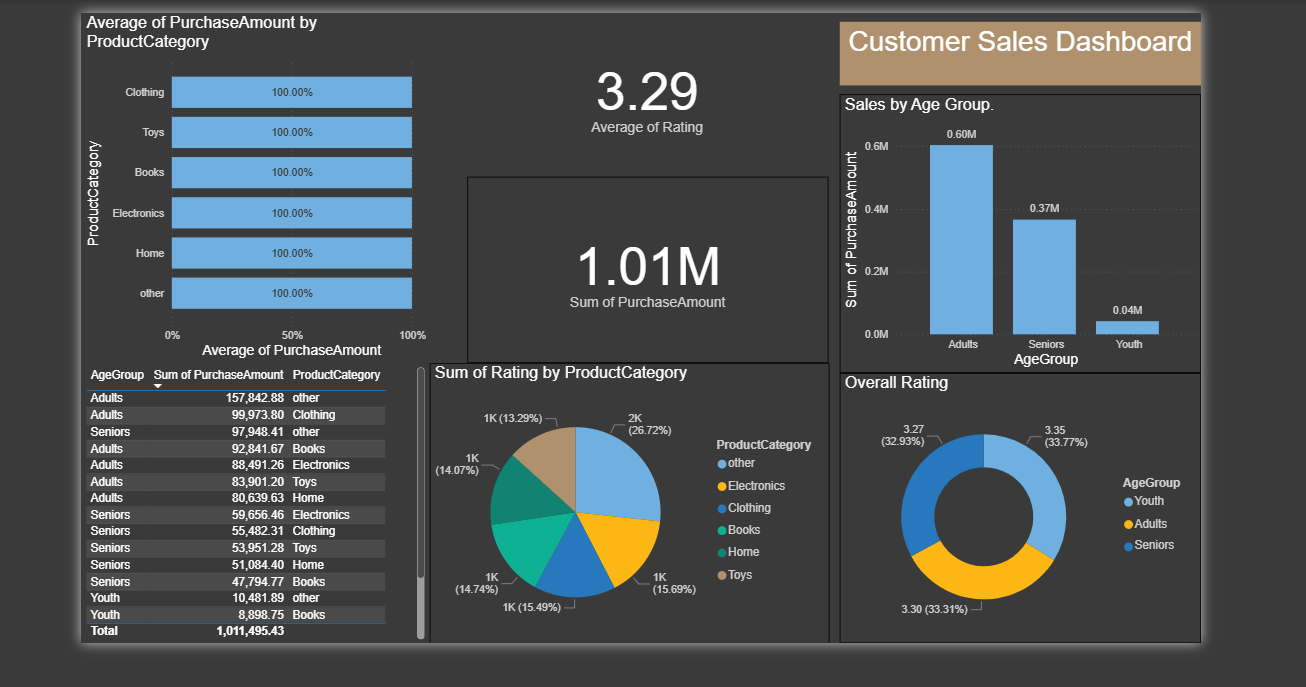

This screenshot's page, from the dashboard's own definition file:
{"tool":"powerbi","page":{"name":"Page 1","canvas":[1280,720],"ordinal":0},"visuals":[{"type":"card","fields":{"Values":["Sum(final_cleaned.PurchaseAmount)"]},"box":[441.9,186.6,413,212.7],"z":0},{"type":"card","fields":{"Values":["Avg(final_cleaned.Rating)"]},"box":[441.9,0,411.7,186.6],"z":1},{"type":"hundredPercentStackedBarChart","fields":{"Category":["final_cleaned.ProductCategory"],"Y":["Avg(final_cleaned.PurchaseAmount)"]},"box":[1.4,0,397.9,399.3],"z":2},{"type":"donutChart","title":"Overall Rating","fields":{"Category":["final_cleaned.AgeGroup"],"Y":["Avg(final_cleaned.Rating)"]},"box":[867.2,411.7,413,308.7],"z":3},{"type":"pieChart","fields":{"Category":["final_cleaned.ProductCategory"],"Y":["Sum(final_cleaned.Rating)"]},"box":[397.9,399.3,456.9,321.1],"z":4},{"type":"tableEx","fields":{"Values":["final_cleaned.AgeGroup","Sum(final_cleaned.PurchaseAmount)","final_cleaned.ProductCategory"]},"box":[0,399.3,397.9,321.1],"z":5},{"type":"clusteredColumnChart","title":"Sales by Age Group.","fields":{"Category":["final_cleaned.AgeGroup"],"Y":["Sum(final_cleaned.PurchaseAmount)"]},"box":[867.2,93.3,413,318.4],"z":6},{"type":"textbox","box":[867.2,9.6,413,72.7],"z":7}]}

Visuals, with their boxes on the page's 1280x720 design canvas (x1, y1, x2, y2). These are canvas units, not pixel positions in the 1306x687 screenshot, which may show the page scaled, cropped or inside an application window:
card - Sum(final_cleaned.PurchaseAmount): bbox=[442, 187, 855, 399]
card - Avg(final_cleaned.Rating): bbox=[442, 0, 854, 187]
hundredPercentStackedBarChart - final_cleaned.ProductCategory x Avg(final_cleaned.PurchaseAmount): bbox=[1, 0, 399, 399]
"Overall Rating" donutChart: bbox=[867, 412, 1280, 720]
pieChart - final_cleaned.ProductCategory x Sum(final_cleaned.Rating): bbox=[398, 399, 855, 720]
tableEx - final_cleaned.AgeGroup x Sum(final_cleaned.PurchaseAmount): bbox=[0, 399, 398, 720]
"Sales by Age Group." clusteredColumnChart: bbox=[867, 93, 1280, 412]
textbox: bbox=[867, 10, 1280, 82]
